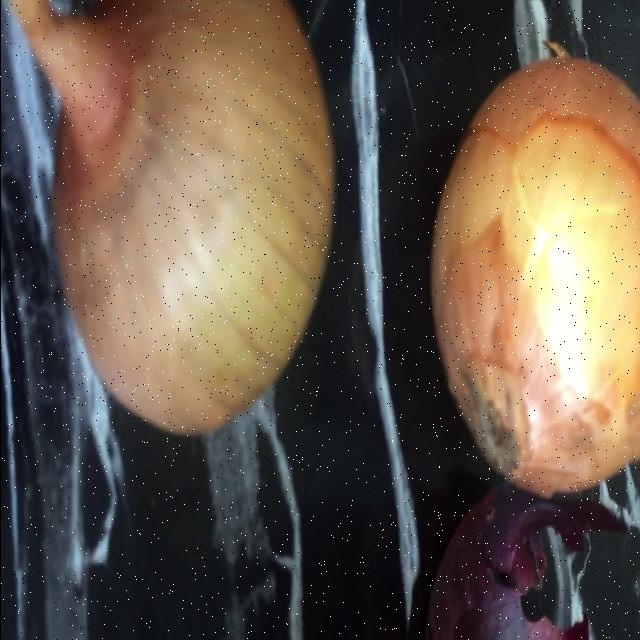Onion: (10, 1, 333, 433), (431, 57, 640, 495)
